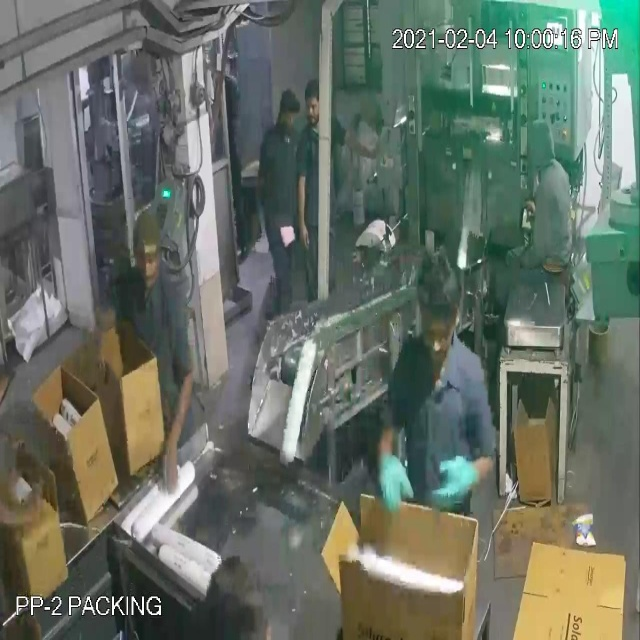Guantes: (361, 409, 421, 540), (418, 427, 483, 532)
Sin_guantes: (156, 336, 196, 520), (339, 109, 391, 181), (292, 159, 316, 260)
